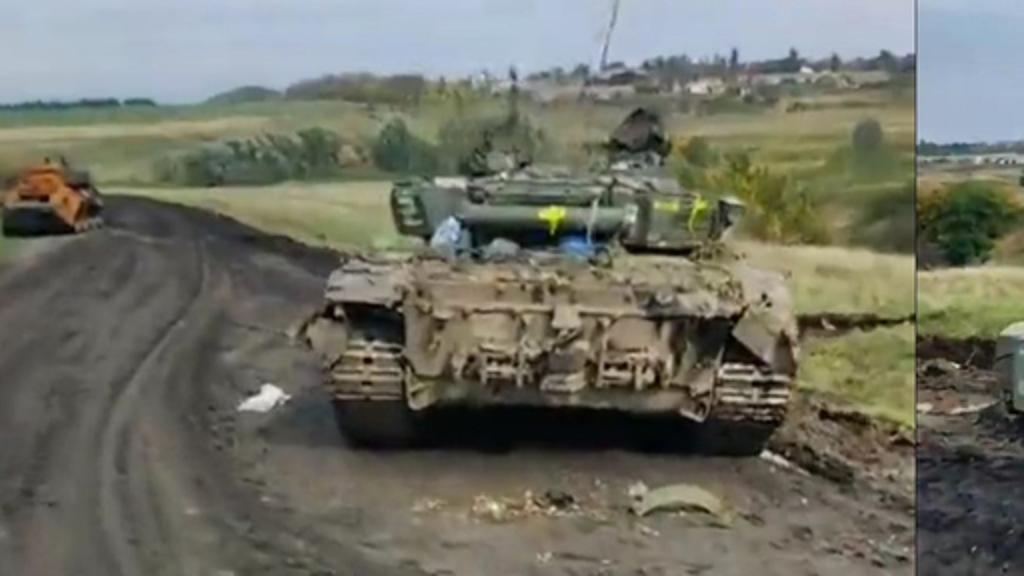TANK: (298, 104, 796, 454)
